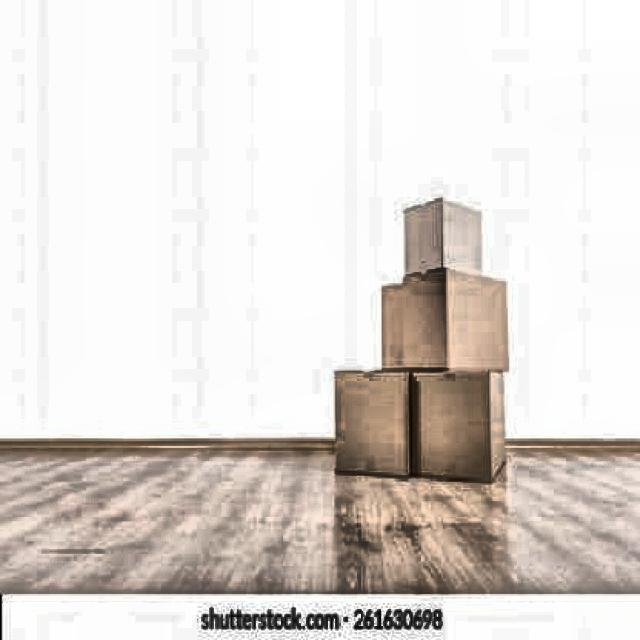Cardbox: (368, 258, 517, 380), (406, 354, 508, 487), (312, 355, 412, 482), (397, 187, 489, 290)
